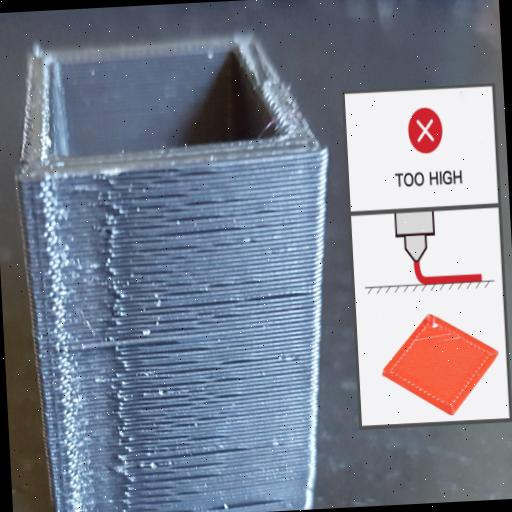blobs: (81, 180, 145, 512)
